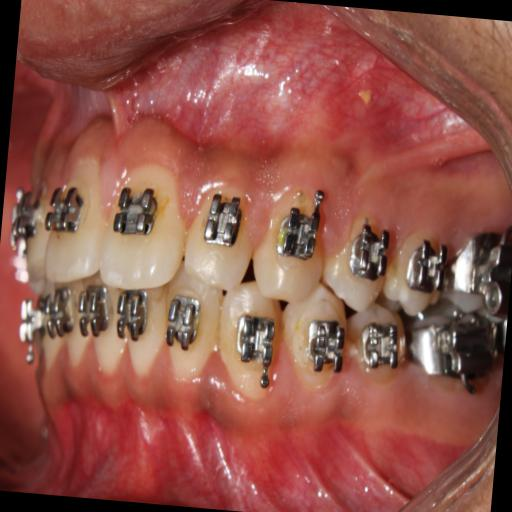correct_brace: (321, 219, 393, 312), (276, 188, 326, 274), (200, 188, 246, 258), (112, 182, 163, 244), (359, 318, 402, 372)
incorrect_brace: (182, 176, 256, 292), (348, 226, 390, 286)
